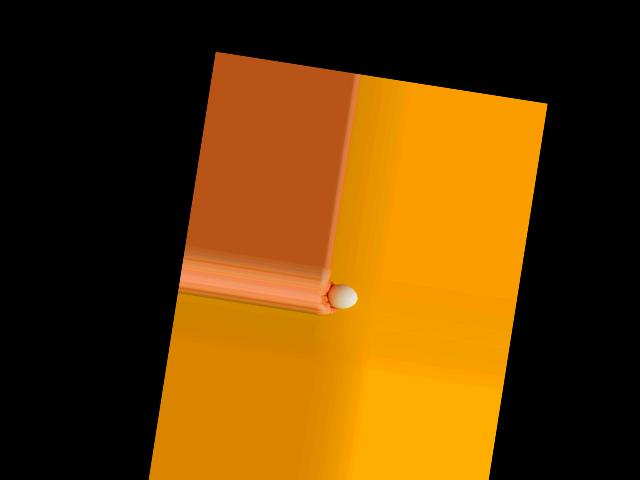egg: (325, 283, 359, 311)
